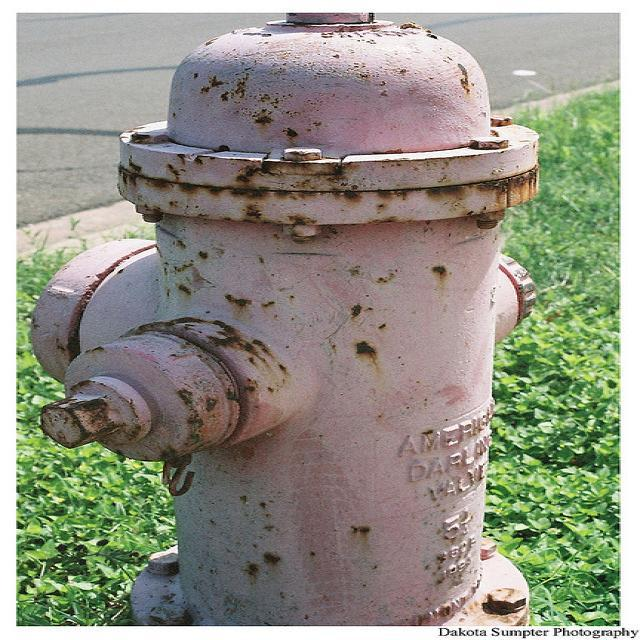fire_hydrant: (37, 18, 548, 634)
